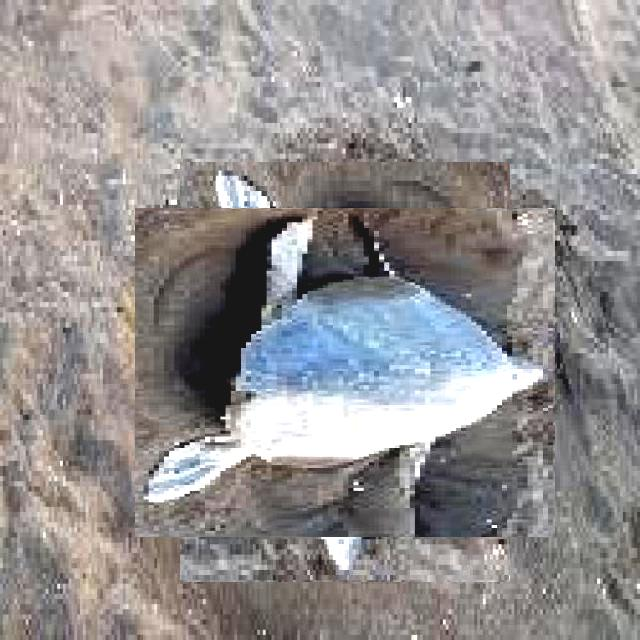Sea turtle: (158, 185, 533, 560)
